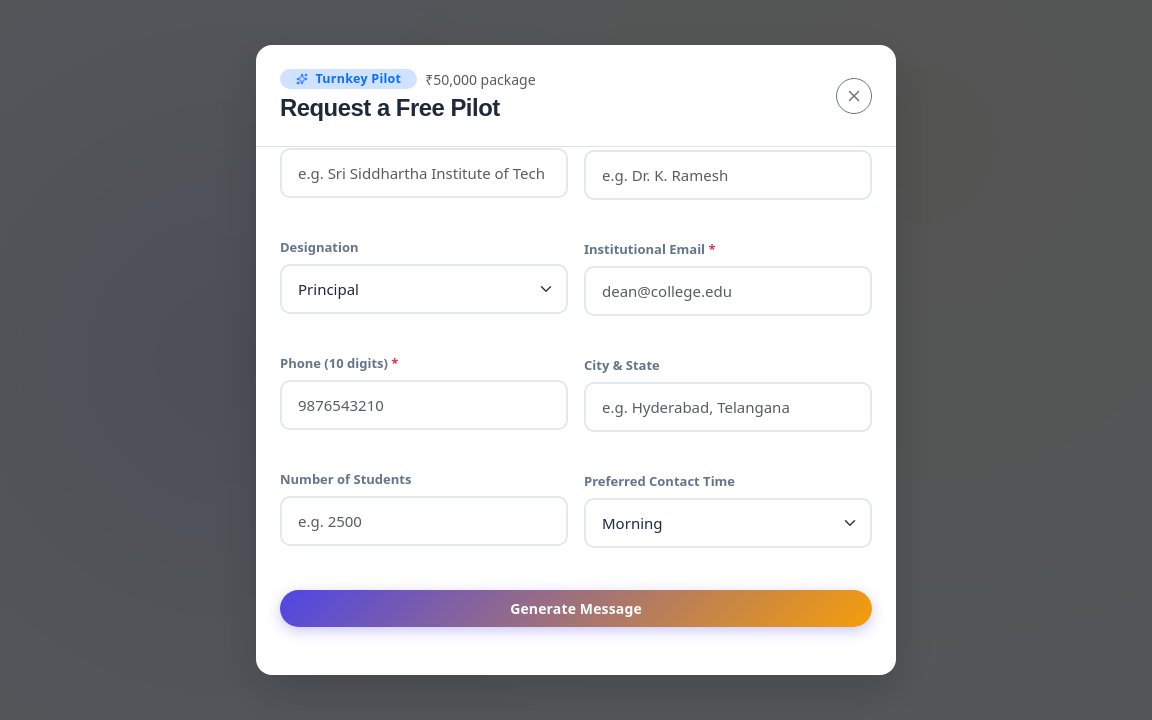
RequestPilotModal Component › Validates required fields before generating message
(page scrolled)
Click the button "Generate Message": (576, 609) x1=280 y1=590 x2=872 y2=627
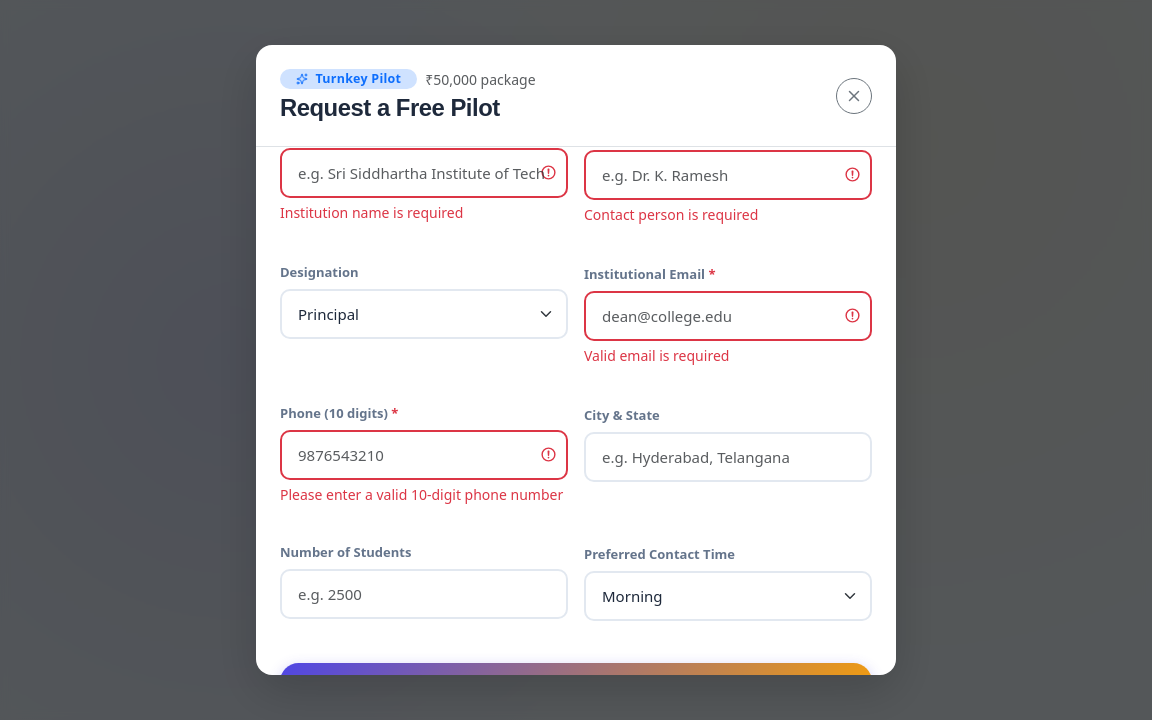
Now the text "Institution name is required" is shown, box x1=280 y1=203 x2=463 y2=222
Now the text "Contact person is required" is shown, box x1=584 y1=205 x2=758 y2=224
